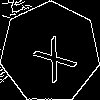X: (25, 27, 78, 84)
